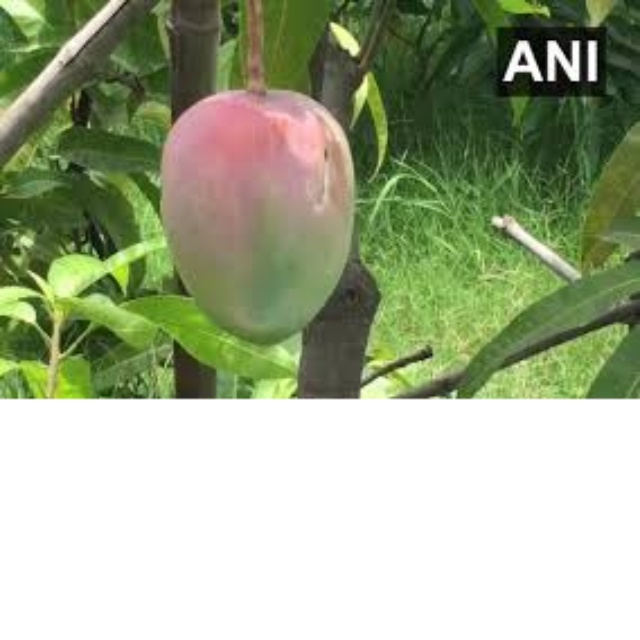thanh_long: (144, 62, 377, 350)
